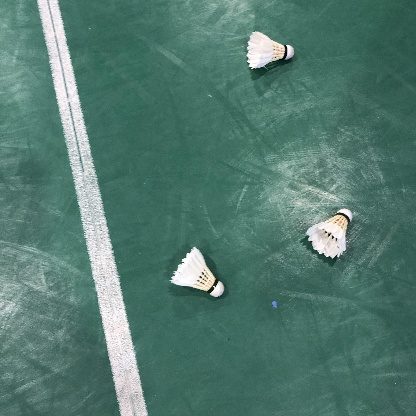ball_single: (170, 247, 225, 297), (306, 209, 352, 258), (246, 31, 294, 69)
